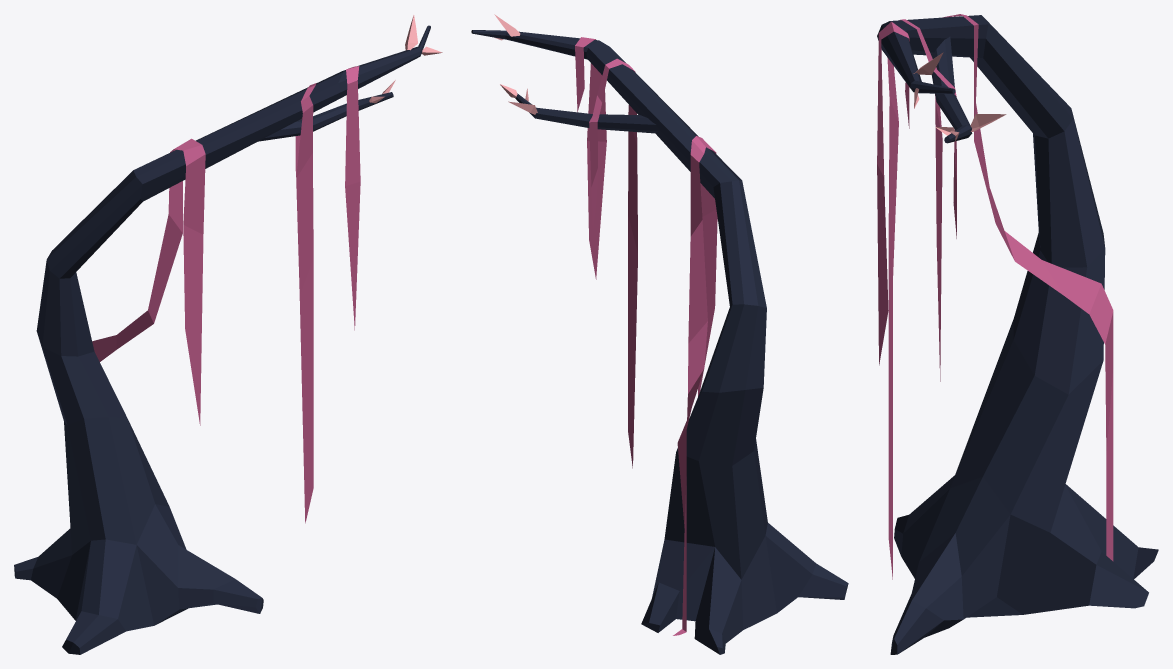
File: scifi_scifi-tree-willow-medium.fbx
3 views of the same model, side by side, from view 1: azimuth 30°, elevation 25°; view 2: azimuth 150°, elevation 25°; view 3: azimuth 270°, elevation 25° (orthographic). The views are drawn at different scales.
Parts seen in each view (by area): view 1: scifi_scifi_tree_willow_medium; view 2: scifi_scifi_tree_willow_medium; view 3: scifi_scifi_tree_willow_medium.
Part boxes in pixels (x1,y1,x2,y2): scifi_scifi_tree_willow_medium: (14,15,442,654); scifi_scifi_tree_willow_medium: (471,14,848,654); scifi_scifi_tree_willow_medium: (877,14,1158,654).
Bounding box in the file's own units: 147 × 200 × 71.48.
